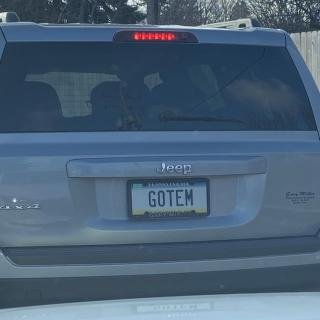license: (127, 179, 211, 220)
